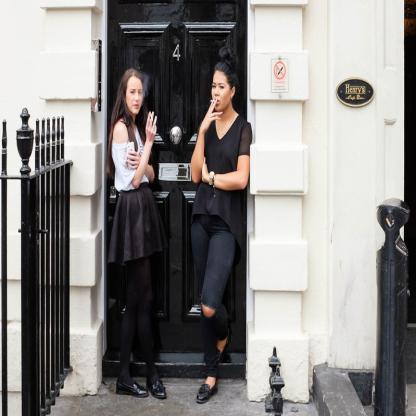smoking: (210, 100, 217, 102), (151, 114, 153, 120)
